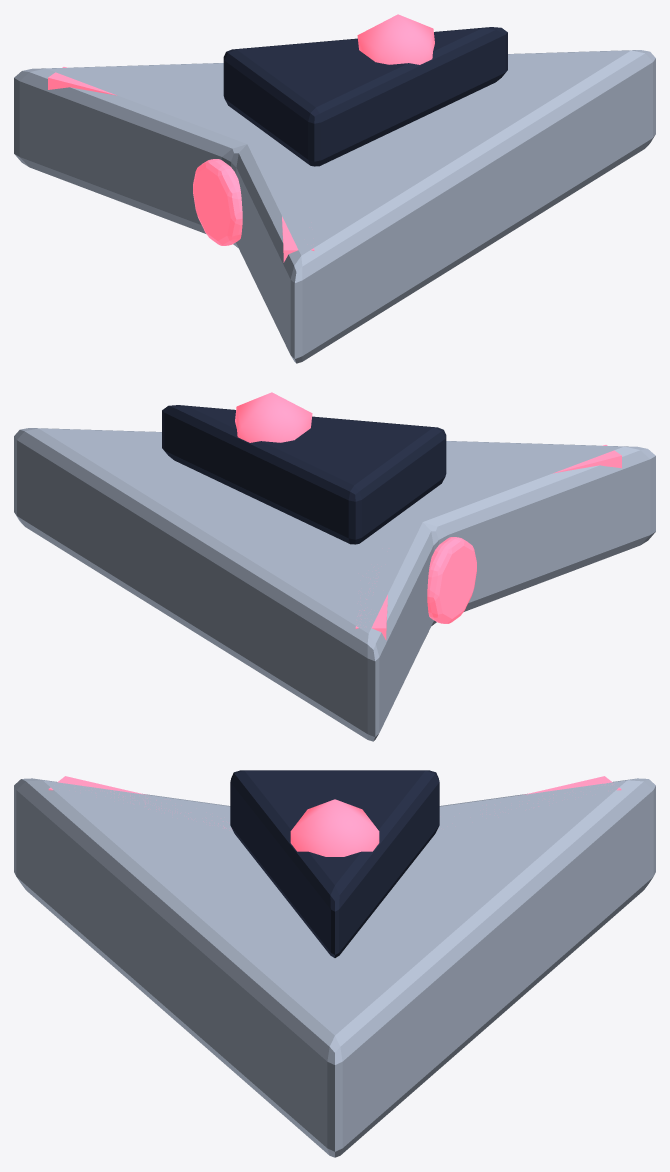
The model's file is enemy_scout.glb.
3 views of the same model, one above another, from view 1: azimuth 30°, elevation 25°; view 2: azimuth 150°, elevation 25°; view 3: azimuth 270°, elevation 25° (orthographic). The views are drawn at different scales.
Parts seen in each view (by area): view 1: enemy_scout; view 2: enemy_scout; view 3: enemy_scout.
Boxes of the visible parts, x1,y1,x2,y2 form: enemy_scout: (14, 14, 655, 363); enemy_scout: (14, 392, 655, 741); enemy_scout: (14, 770, 655, 1157).
Size of the model in its own units: 1.52 by 0.57 by 1.48.
